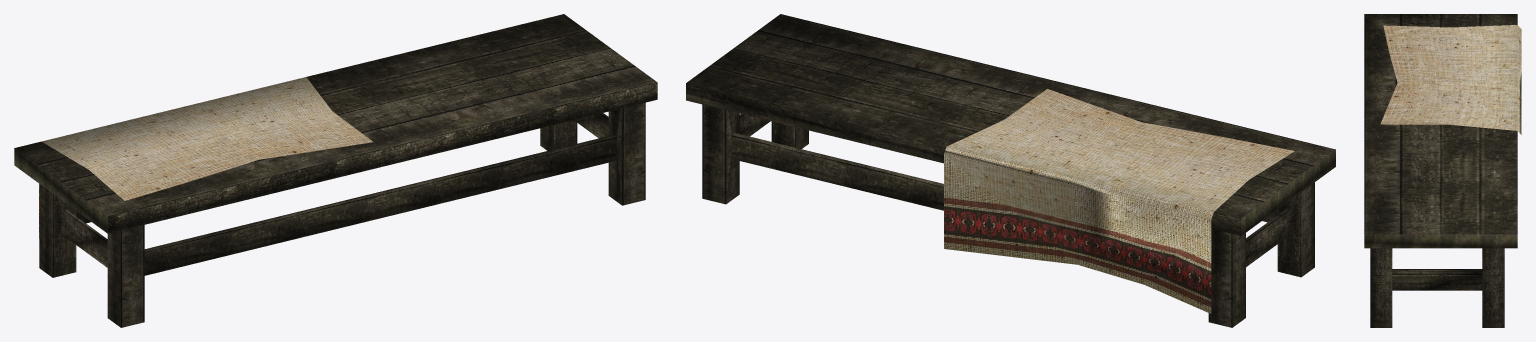
The model's file is KM_VOB_MERCHANT_LONGTABLE_CLOTH.glb.
3 views of the same model, side by side, from view 1: azimuth 30°, elevation 25°; view 2: azimuth 150°, elevation 25°; view 3: azimuth 270°, elevation 25° (orthographic). The views are drawn at different scales.
Parts seen in each view (by area): view 1: Mesh; view 2: Mesh; view 3: Mesh.
Part boxes in pixels (x1,y1,x2,y2): Mesh: (14, 14, 657, 327); Mesh: (686, 14, 1335, 327); Mesh: (1364, 14, 1521, 327).
Bounding box in the file's own units: 3.52 × 0.7247 × 1.07.
Materials: 3 (3 with a texture image).
